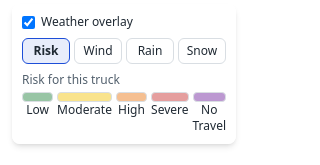
Test: HeatmapControls › switches the layer and shows a legend with units
This screenshot has width=320, height=165.
Expected: the element named "Legend: Risk for this truck" shows "Severe", [151,101,189,118]
Click the radio button labelled "Wind": {"x": 98, "y": 51} [74,38,122,64]
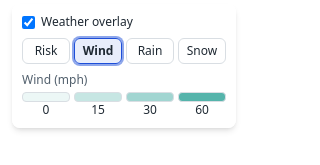
Expected: the element named "Legend: Wind" shows "mph", [51,71,87,88]
